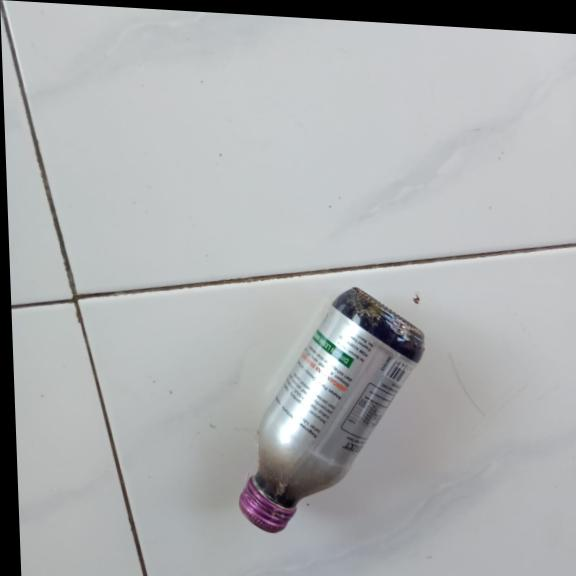Plastik: (232, 279, 433, 544)
